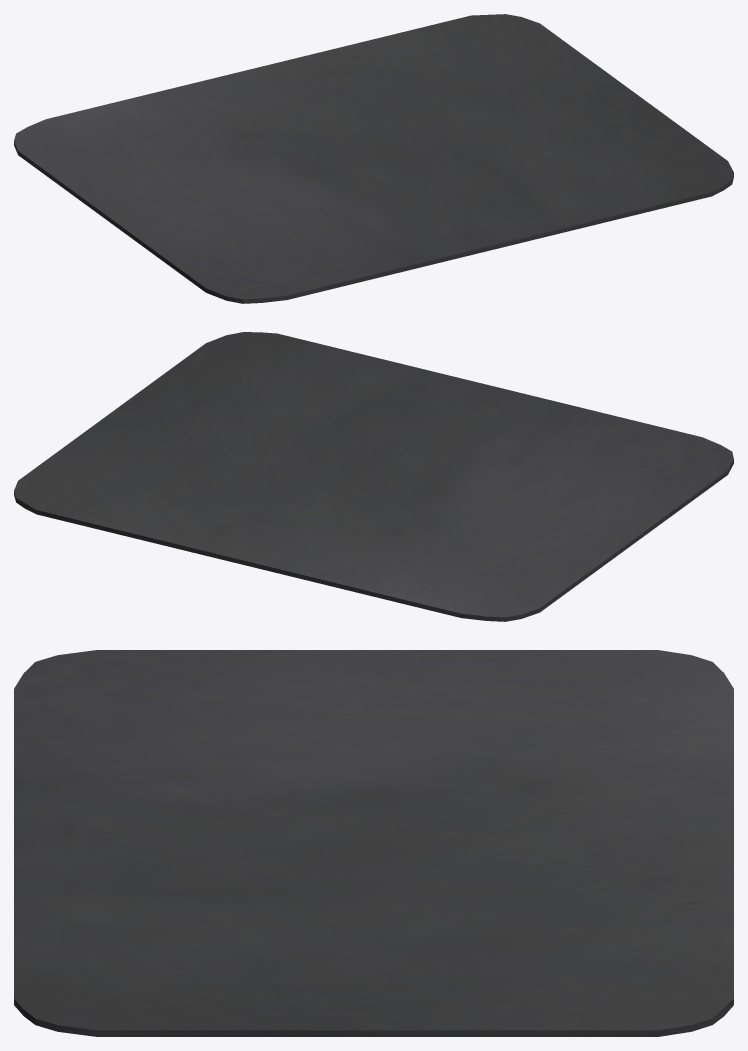
File: Mouse Pad_lod2.fbx
3 views of the same model, one above another, from view 1: azimuth 30°, elevation 25°; view 2: azimuth 150°, elevation 25°; view 3: azimuth 270°, elevation 25° (orthographic). The views are drawn at different scales.
Visible parts, largest first — view 1: Mouse_Pad; view 2: Mouse_Pad; view 3: Mouse_Pad.
Part boxes in pixels (x1,y1,x2,y2): Mouse_Pad: (14, 14, 733, 303); Mouse_Pad: (14, 332, 733, 621); Mouse_Pad: (14, 650, 733, 1036).
Size of the model in its own units: 2.5 by 0.0203 by 2.
